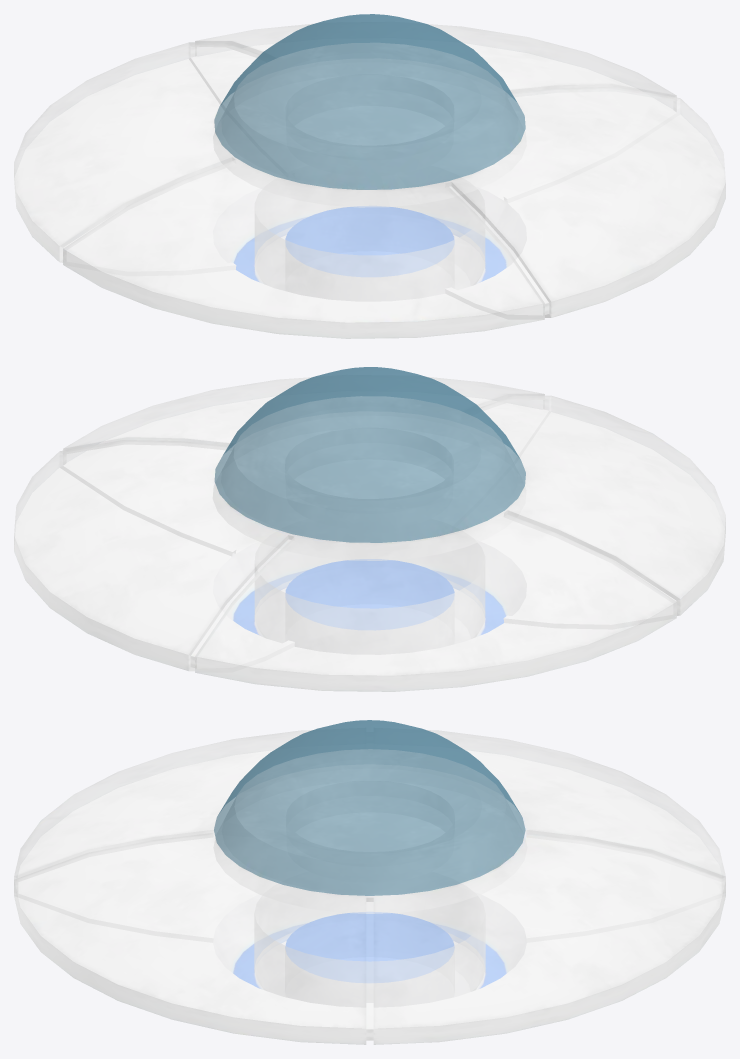
File: UFO.glb
The picture shows the model from 3 angles, top to bottom: view 1: azimuth 30°, elevation 25°; view 2: azimuth 150°, elevation 25°; view 3: azimuth 270°, elevation 25°; orthographic projection.
Parts seen in each view (by area): view 1: UFO_cockpit.002; view 2: UFO_cockpit.002; view 3: UFO_cockpit.002.
Boxes of the visible parts, bbox=[...] form: UFO_cockpit.002: bbox=[14, 14, 725, 338]; UFO_cockpit.002: bbox=[14, 367, 725, 691]; UFO_cockpit.002: bbox=[14, 720, 725, 1044].
Bounding box in the file's own units: 42.53 × 16.94 × 42.53.
2 materials, 2 textured.
